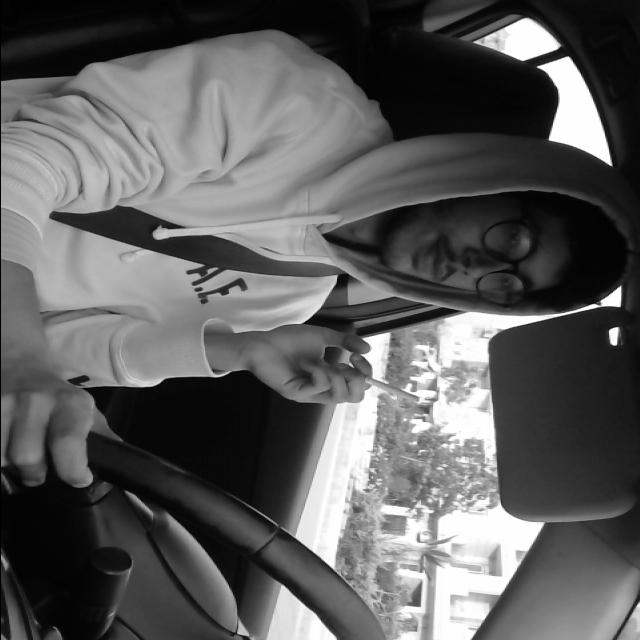smoking: (341, 370, 422, 406)
